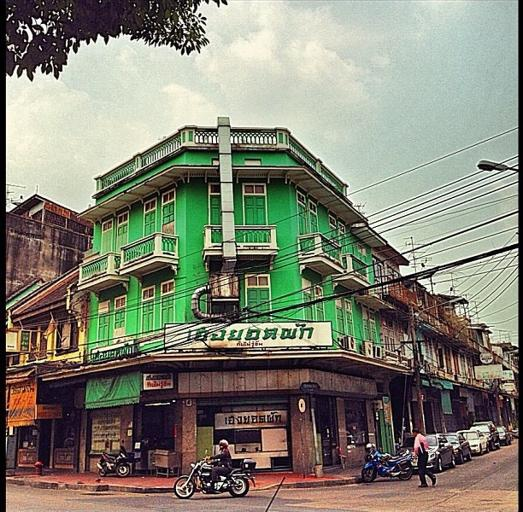non-vehicle: (173, 449, 255, 498), (360, 442, 413, 482), (96, 438, 133, 477)
